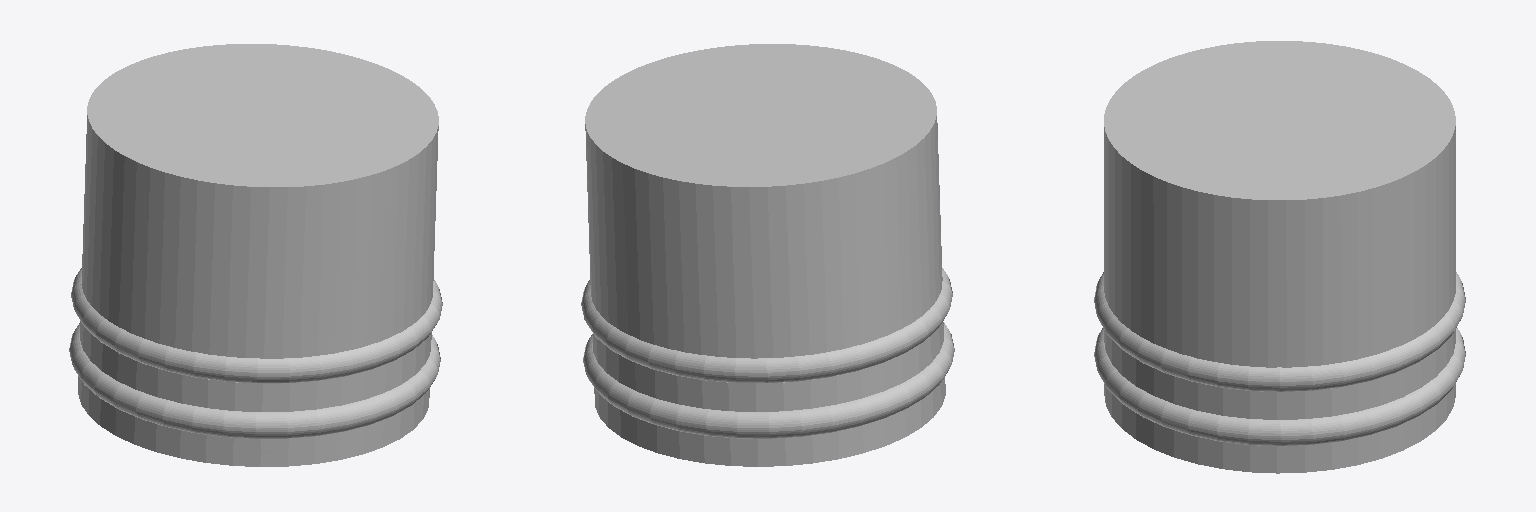
The model's file is bombilla176.obj.
3 views of the same model, side by side, from view 1: azimuth 30°, elevation 25°; view 2: azimuth 150°, elevation 25°; view 3: azimuth 270°, elevation 25° (orthographic).
Visible parts, largest first — view 1: Cylinder001, Cylinder004, Cylinder003, Cylinder006, Cylinder002; view 2: Cylinder001, Cylinder004, Cylinder003, Cylinder006, Cylinder002; view 3: Cylinder001, Cylinder004, Cylinder003, Cylinder002, Cylinder006.
Boxes of the visible parts, x1=… form: Cylinder001: x1=81, y1=44, x2=438, y2=358; Cylinder004: x1=69, y1=323, x2=440, y2=438; Cylinder003: x1=80, y1=321, x2=431, y2=411; Cylinder006: x1=78, y1=376, x2=429, y2=466; Cylinder002: x1=71, y1=268, x2=442, y2=383; Cylinder001: x1=585, y1=44, x2=942, y2=358; Cylinder004: x1=583, y1=323, x2=954, y2=438; Cylinder003: x1=593, y1=322, x2=943, y2=411; Cylinder006: x1=594, y1=377, x2=945, y2=466; Cylinder002: x1=581, y1=268, x2=952, y2=382; Cylinder001: x1=1104, y1=41, x2=1455, y2=367; Cylinder004: x1=1094, y1=328, x2=1465, y2=445; Cylinder003: x1=1104, y1=329, x2=1455, y2=419; Cylinder002: x1=1094, y1=272, x2=1465, y2=391; Cylinder006: x1=1104, y1=383, x2=1455, y2=473.
Size of the model in its own units: 72.61 by 61.91 by 72.25.